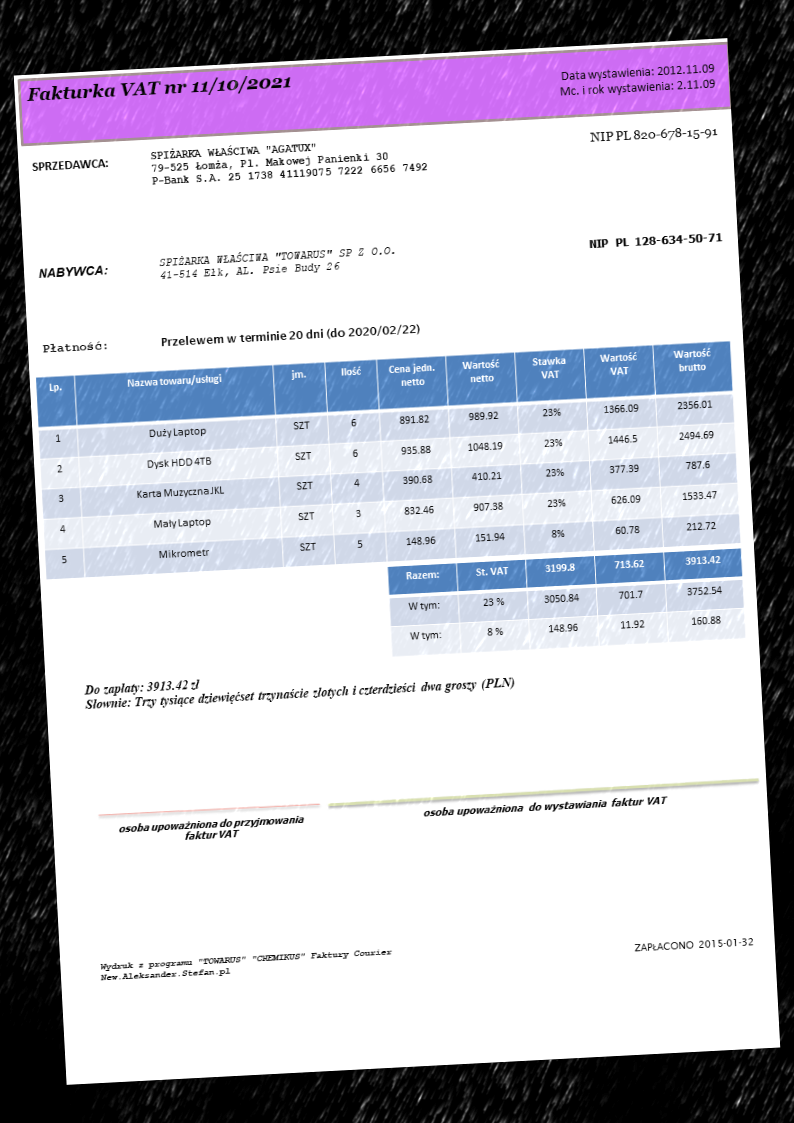Table: (33, 338, 741, 580), (386, 547, 746, 658)
TextBox: (81, 658, 517, 715), (146, 133, 429, 188), (96, 945, 395, 985), (156, 242, 399, 283), (23, 70, 293, 106), (158, 322, 422, 351), (421, 792, 671, 822), (116, 811, 306, 846), (555, 59, 718, 98), (586, 229, 724, 252), (585, 123, 719, 146), (630, 933, 755, 957), (29, 154, 110, 174), (35, 261, 109, 281), (40, 336, 110, 356)
